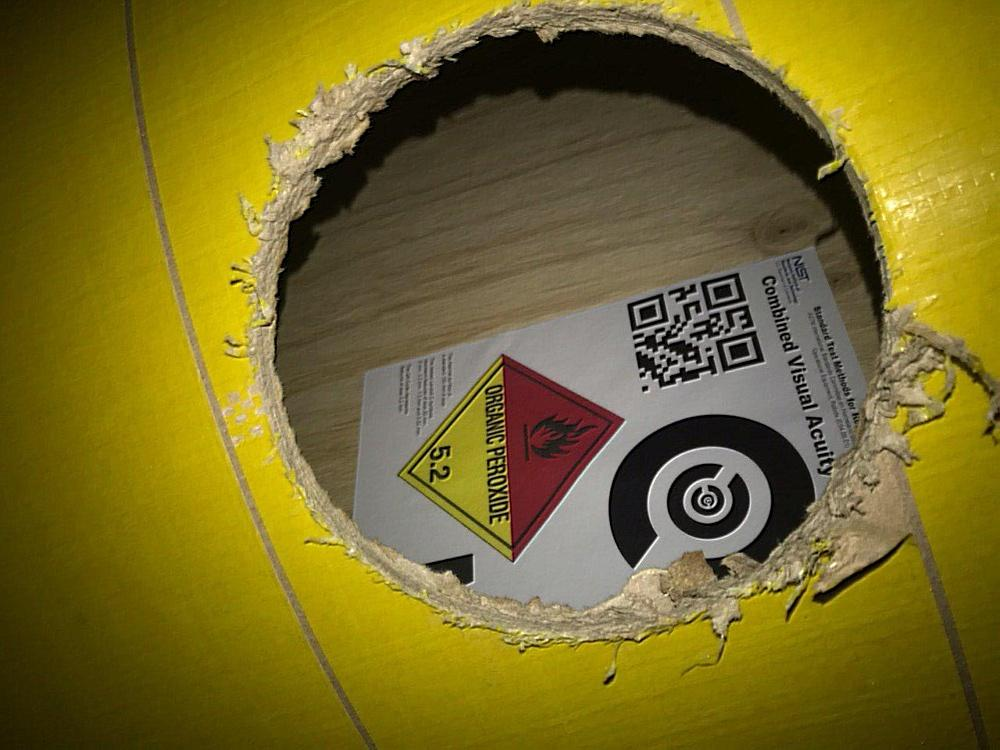organic-peroxide: (391, 353, 625, 564)
